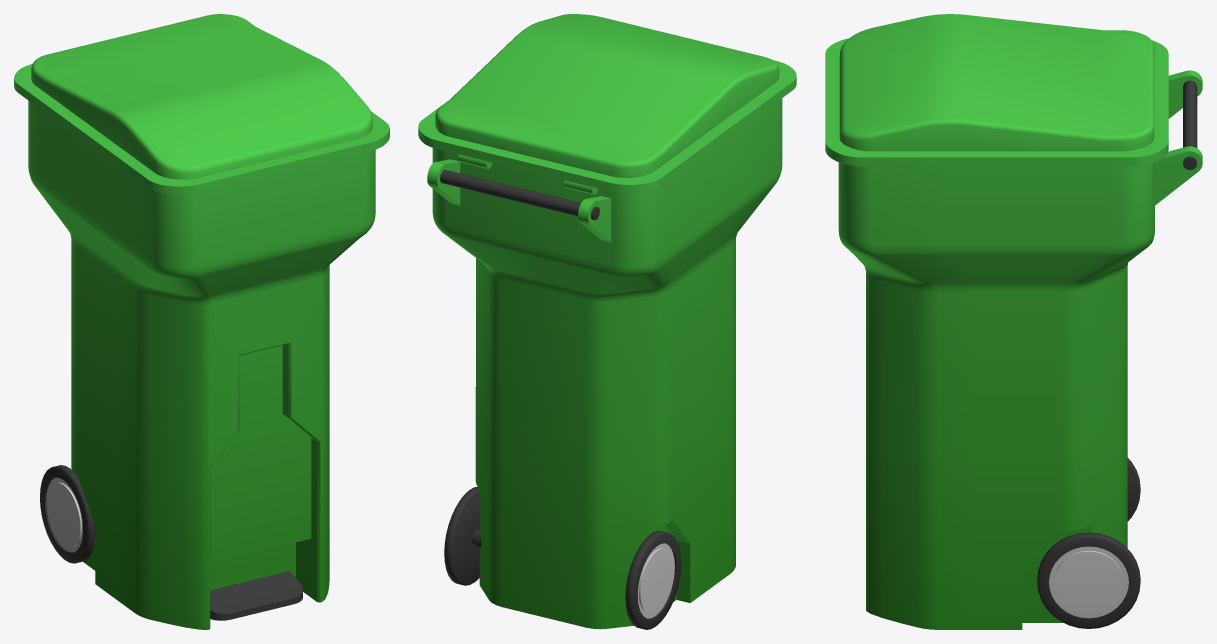
Rendered from garbage_collector_green_medium.glb.
3 views of the same model, side by side, from view 1: azimuth 30°, elevation 25°; view 2: azimuth 150°, elevation 25°; view 3: azimuth 270°, elevation 25° (orthographic). The views are drawn at different scales.
Parts seen in each view (by area): view 1: garbage_collector_green_medium; view 2: garbage_collector_green_medium; view 3: garbage_collector_green_medium.
Boxes of the visible parts, bbox=[...] form: garbage_collector_green_medium: bbox=[14, 14, 389, 629]; garbage_collector_green_medium: bbox=[418, 14, 796, 629]; garbage_collector_green_medium: bbox=[825, 14, 1202, 629].
Size of the model in its own units: 0.559 by 1.12 by 0.7417.
1 material, 1 textured.
